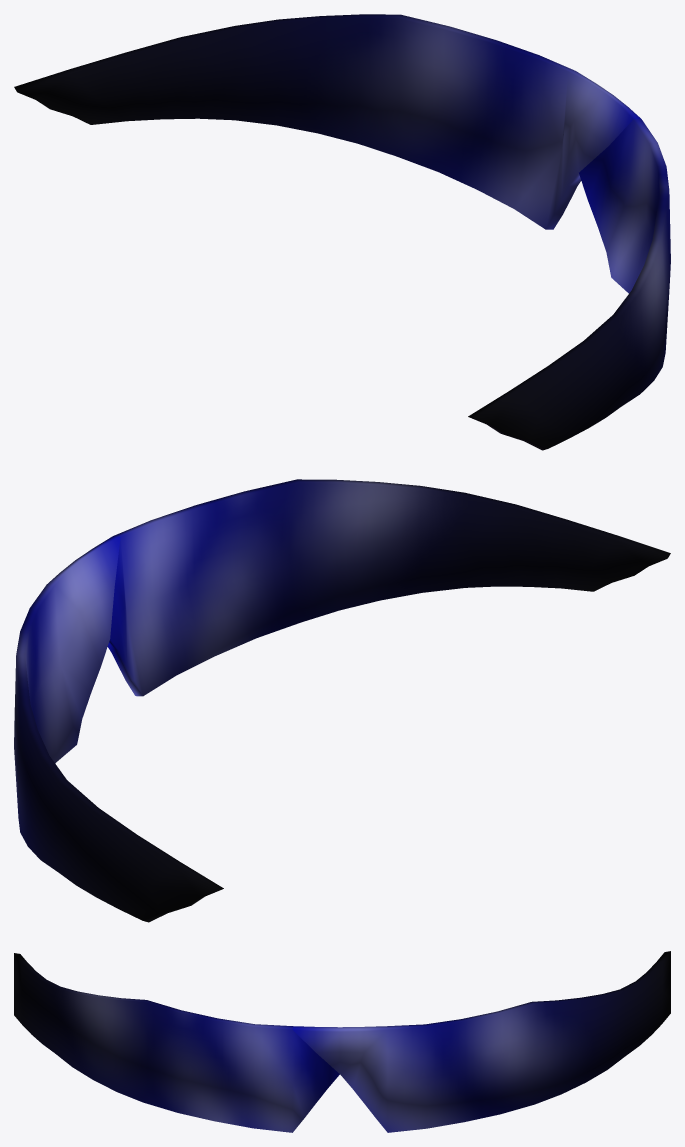
File: human2g2.obj
3 renders of one model, top to bottom at view 1: azimuth 30°, elevation 25°; view 2: azimuth 150°, elevation 25°; view 3: azimuth 270°, elevation 25°, orthographic. The views are drawn at different scales.
Parts seen in each view (by area): view 1: ColobotMesh_1_ColobotMesh_; view 2: ColobotMesh_1_ColobotMesh_; view 3: ColobotMesh_1_ColobotMesh_.
Part boxes in pixels (<box>): ColobotMesh_1_ColobotMesh_: <box>14,14,670,450</box>; ColobotMesh_1_ColobotMesh_: <box>14,479,670,922</box>; ColobotMesh_1_ColobotMesh_: <box>14,951,670,1132</box>.
Bounding box in the file's own units: 0.476 × 0.1903 × 1.01.
